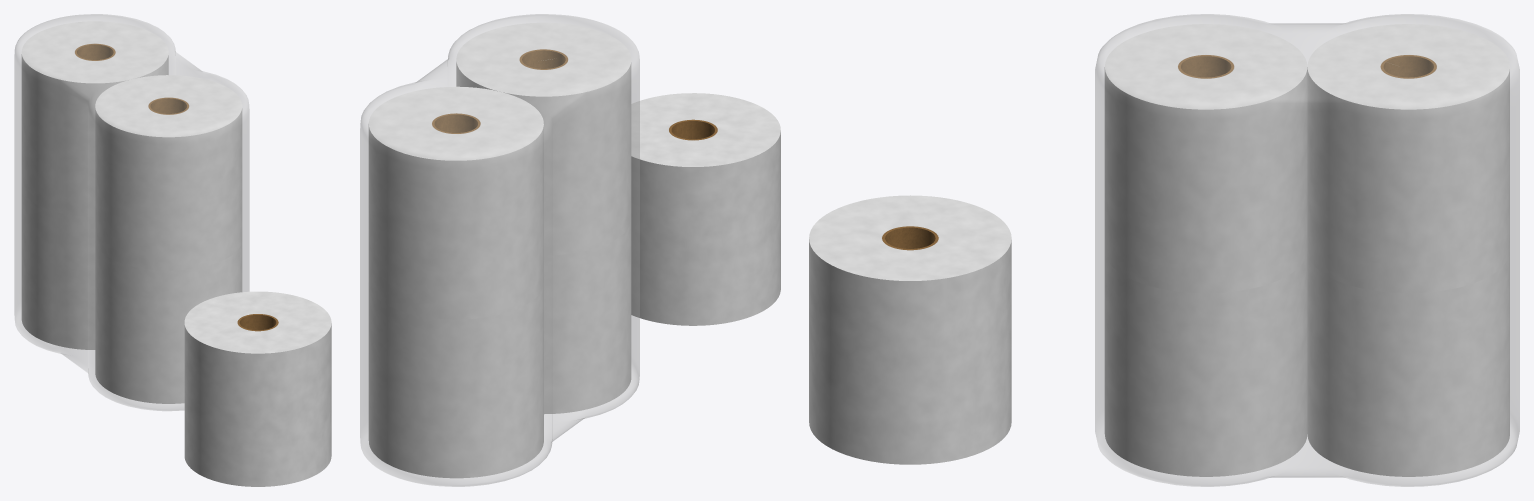
File: ToiletPapers.glb
3 views of the same model, side by side, from view 1: azimuth 30°, elevation 25°; view 2: azimuth 150°, elevation 25°; view 3: azimuth 270°, elevation 25° (orthographic). The views are drawn at different scales.
Parts seen in each view (by area): view 1: TP_Wrap, TP_Group, ToiletPaper; view 2: TP_Wrap, TP_Group, ToiletPaper; view 3: TP_Wrap, TP_Group, ToiletPaper.
Boxes of the visible parts, x1,y1,x2,y2 form: TP_Wrap: (14, 14, 249, 410); TP_Group: (21, 21, 242, 403); ToiletPaper: (184, 291, 331, 486); TP_Wrap: (360, 14, 639, 486); TP_Group: (368, 22, 631, 478); ToiletPaper: (631, 93, 780, 325); TP_Wrap: (1095, 14, 1519, 486); TP_Group: (1104, 24, 1509, 476); ToiletPaper: (809, 195, 1011, 464).
Size of the model in its own units: 0.2383 by 0.42 by 0.7017.
2 materials, 1 textured.
